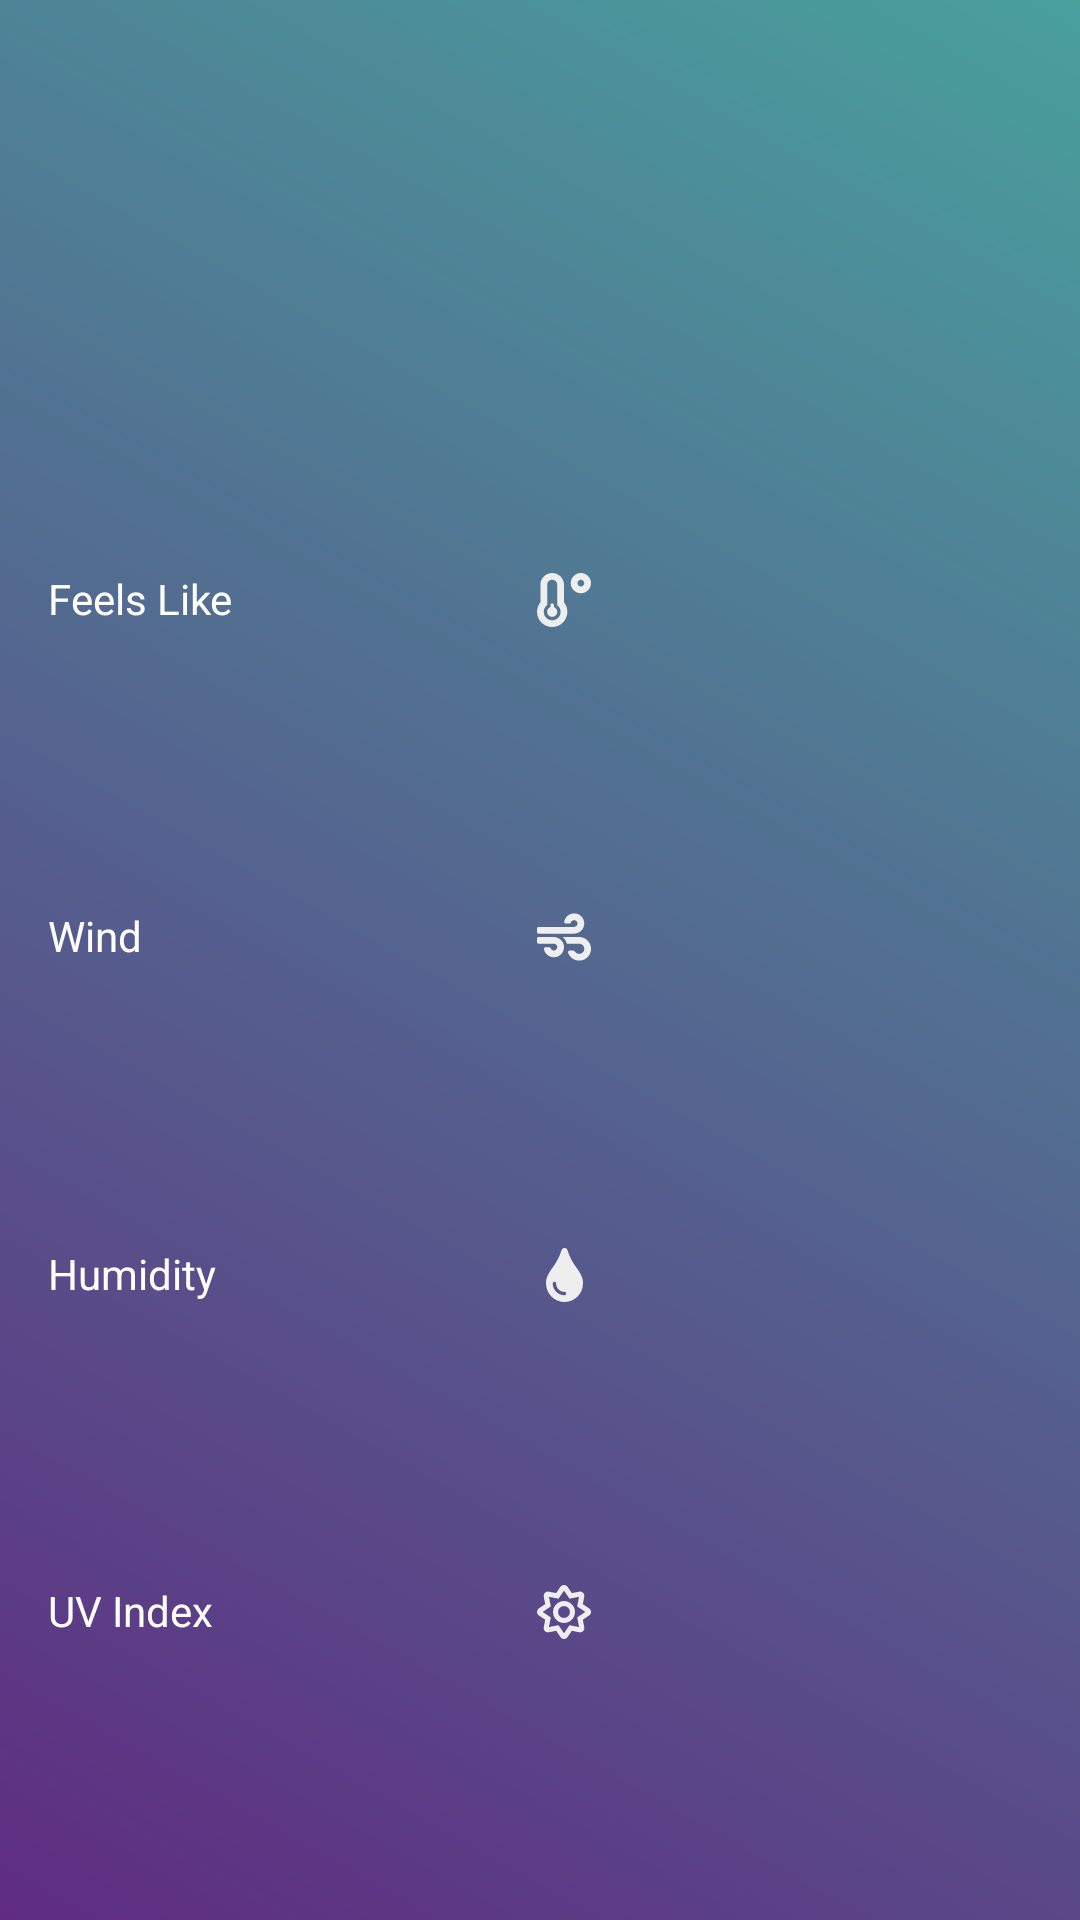

Screen size 1080 × 1920. Icon name, then its center in pixels as (x=x, y=y):
sun: (x=564, y=1612)
temperature low: (x=564, y=600)
tint: (x=564, y=1275)
